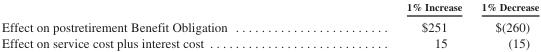table: (0, 0, 538, 49)
table column: (0, 0, 316, 49), (316, 0, 471, 49), (471, 0, 538, 49)
table column header: (0, 0, 538, 16)
table row: (0, 16, 538, 34), (0, 0, 538, 16), (0, 34, 538, 49)
